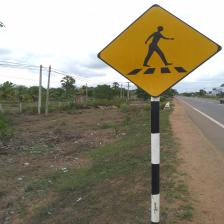yellowboard: (96, 4, 222, 97)
